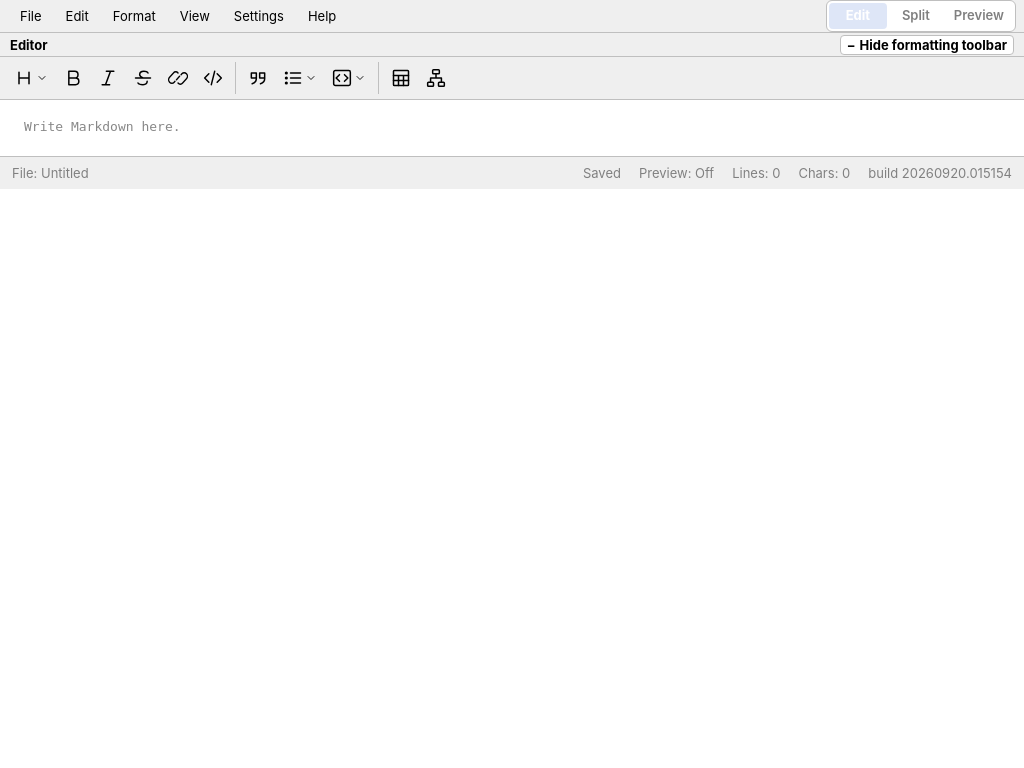
document session safety › waits for an unsaved-decision dialog before focusing the successfully opened editor
Press b in the field with class "cm-content", box [24,119,180,134]
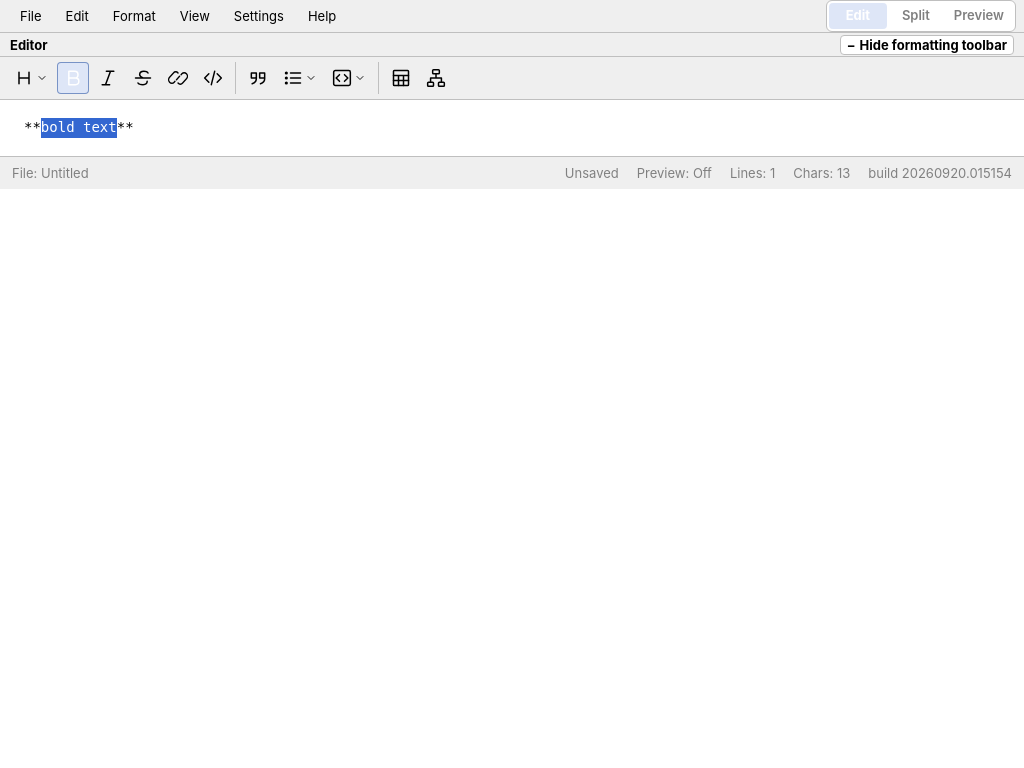
Press o in the field with class "cm-content", box [24,119,134,135]
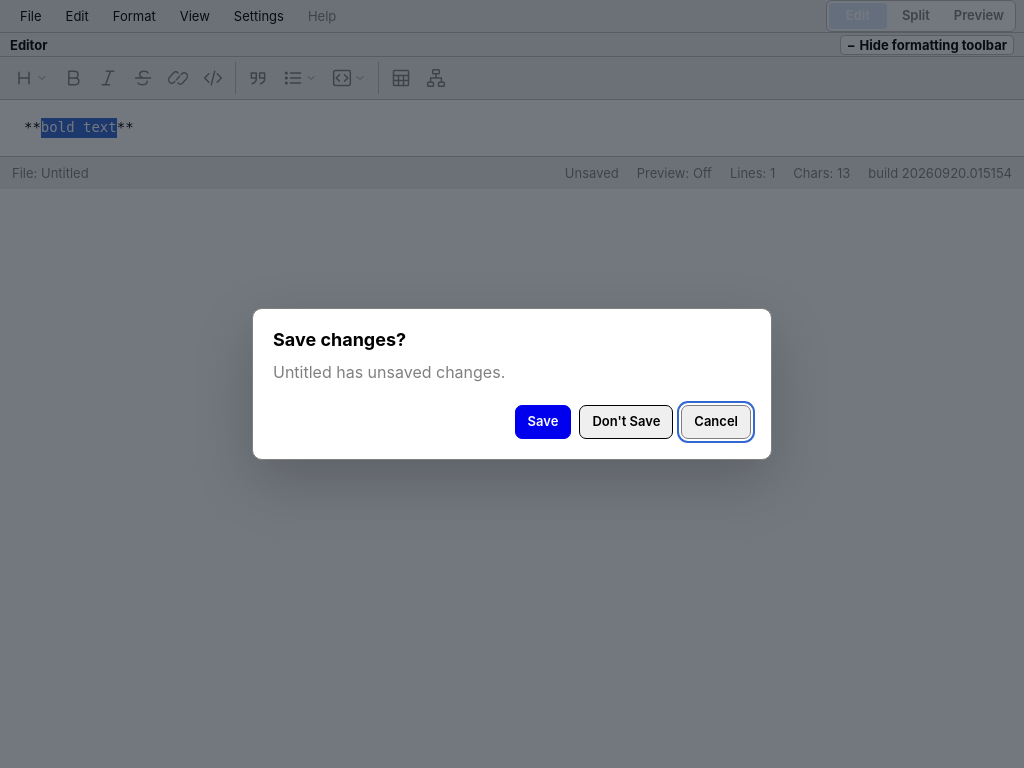
Click the button "Don't Save": (626, 422) [579,405,673,439]
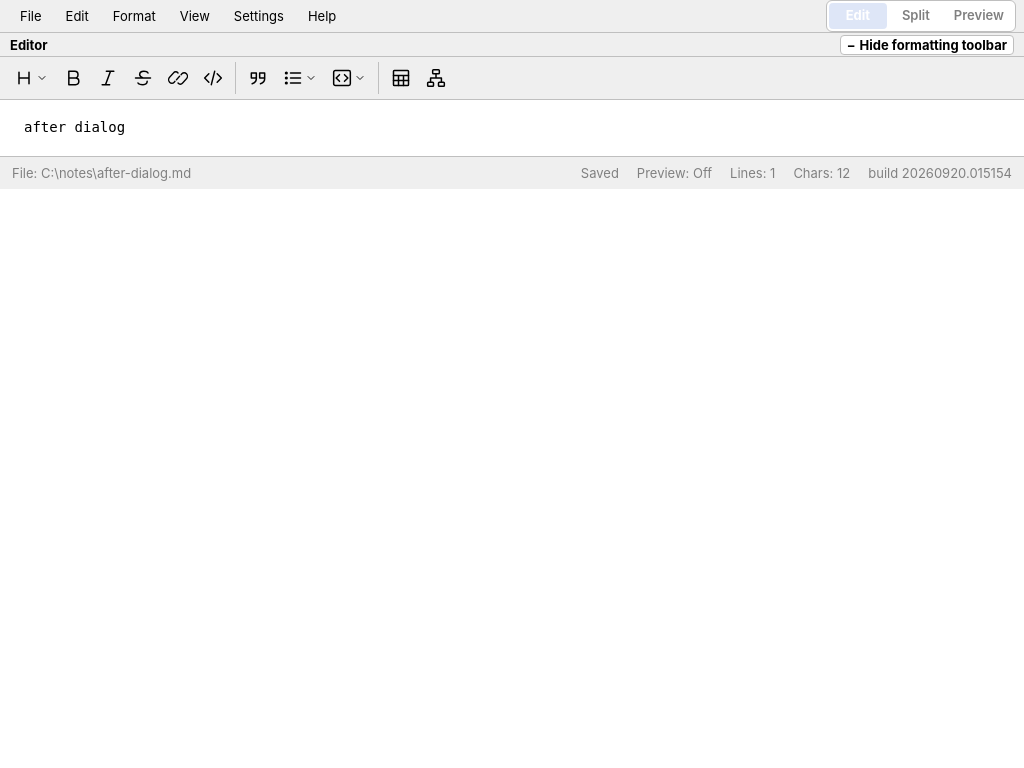
Now the text box labelled "after dialog" is shown, box [24,119,125,135]
